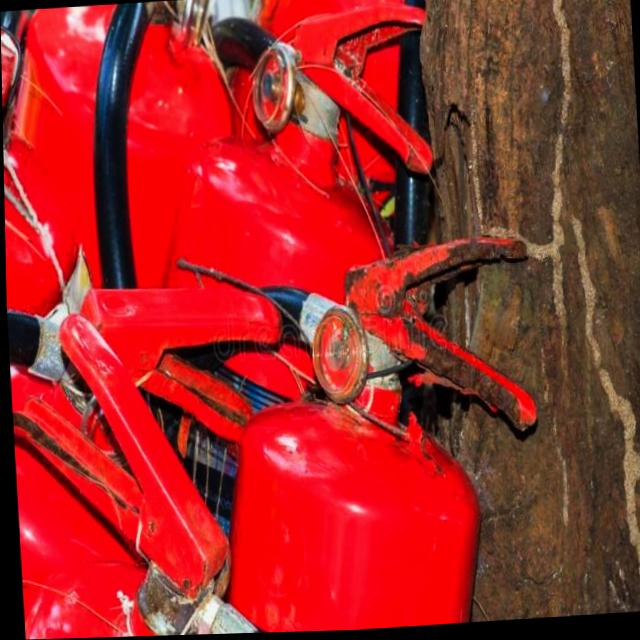FireExtinguisher: (115, 0, 464, 637), (78, 230, 556, 638), (0, 0, 278, 581)
